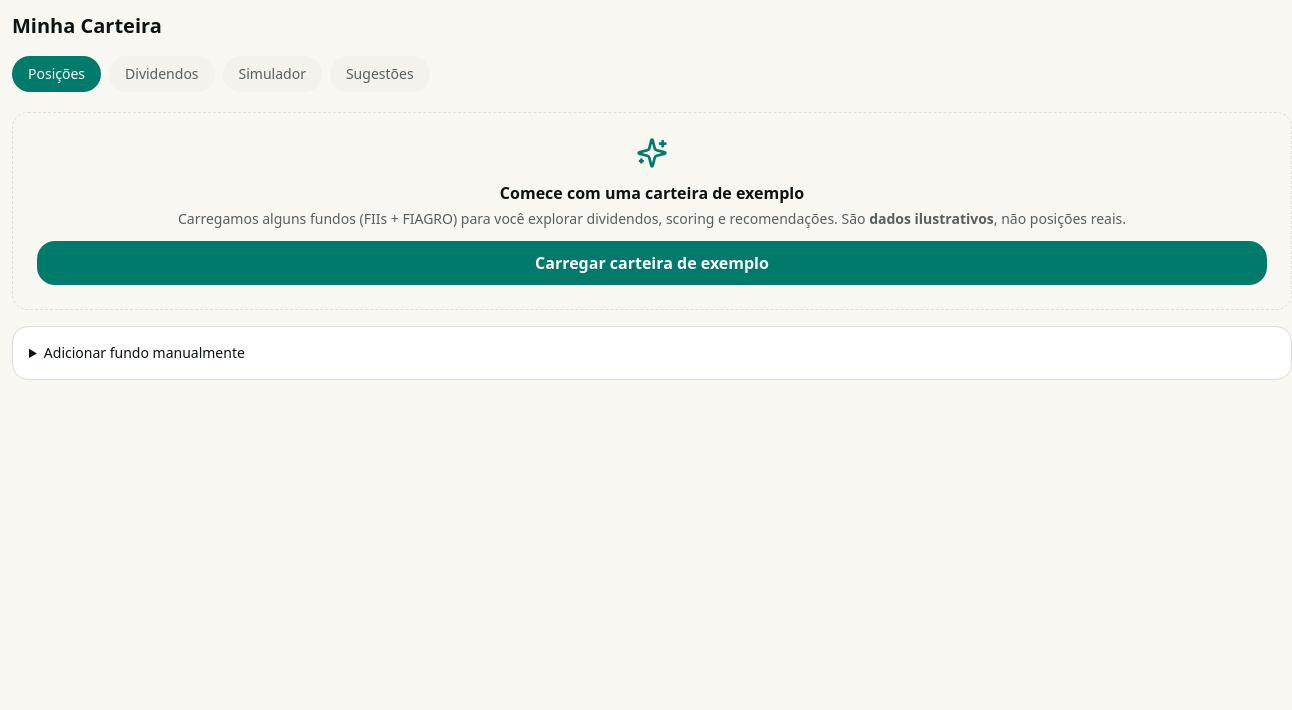
Scenario: CarteiraPage abas › troca para a aba Simulador
The width and height of the screenshot is (1292, 710).
Step 1. Click the tab "Simulador" → [272, 74], box [223,56,322,92]
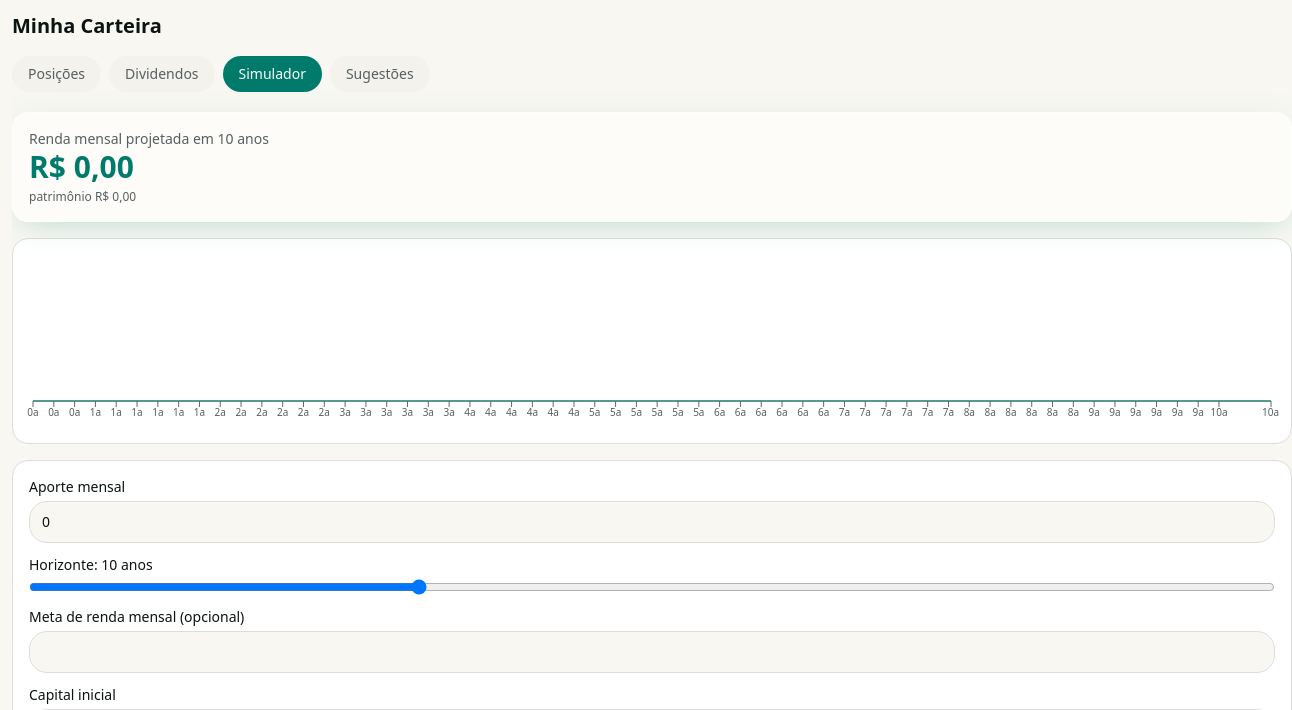
Expected: the text "Renda mensal projetada em 10 anos" is shown, [29,129,269,148]
